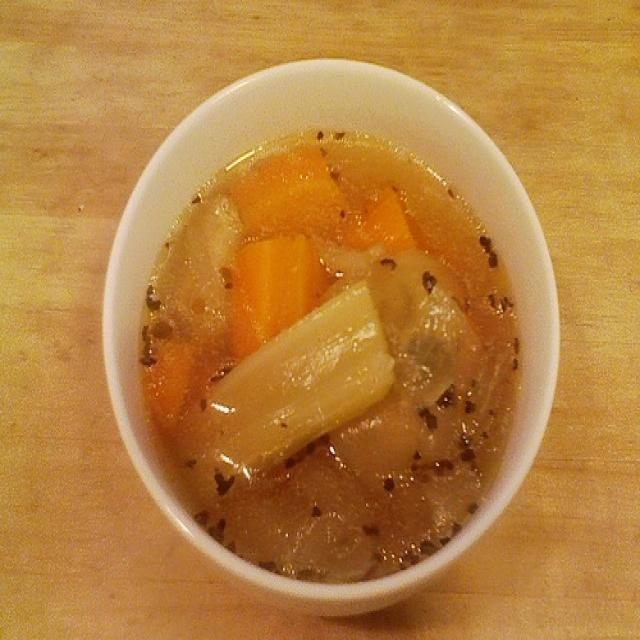汤锅炖物: (118, 106, 539, 594)
